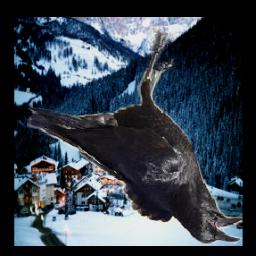Crow: (27, 28, 243, 244)
